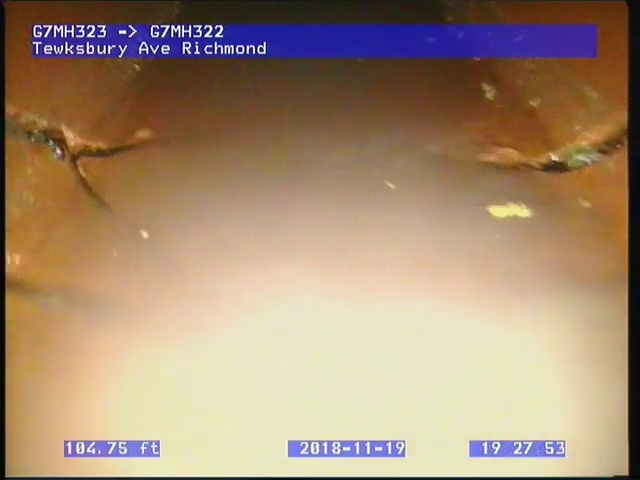crack: (8, 105, 160, 218), (484, 121, 626, 179)
